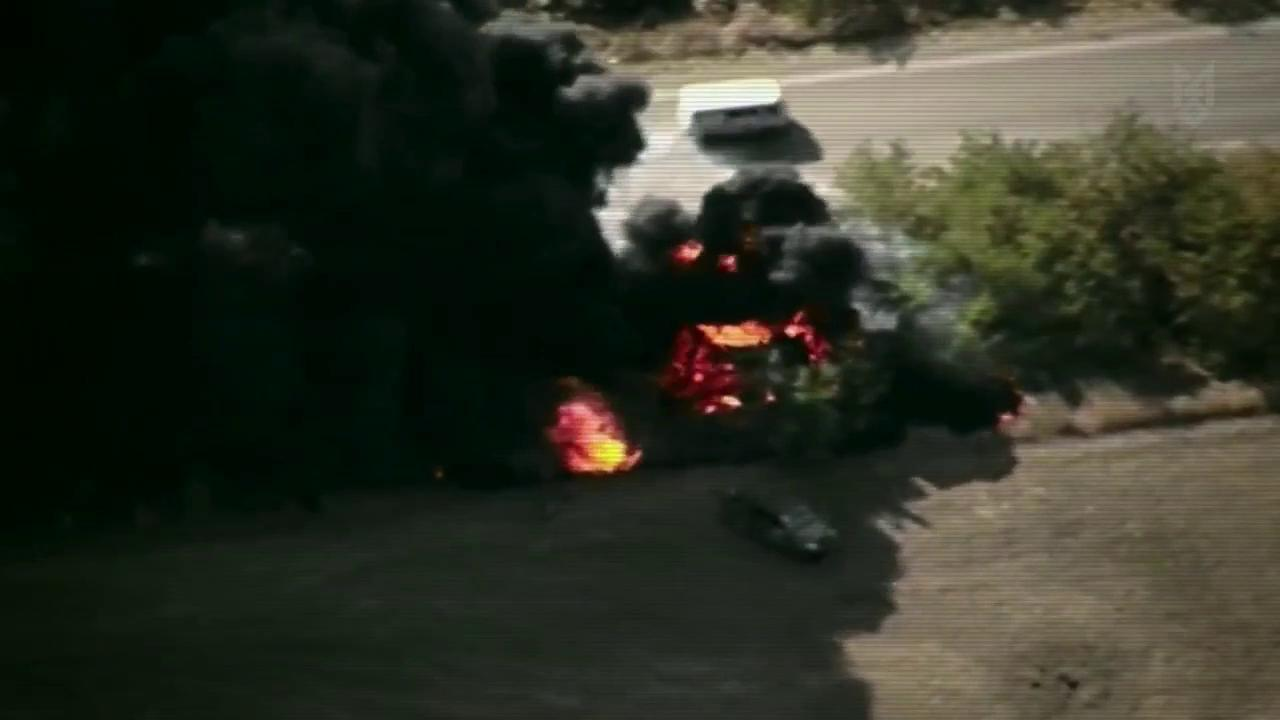tank: (717, 473, 842, 567)
